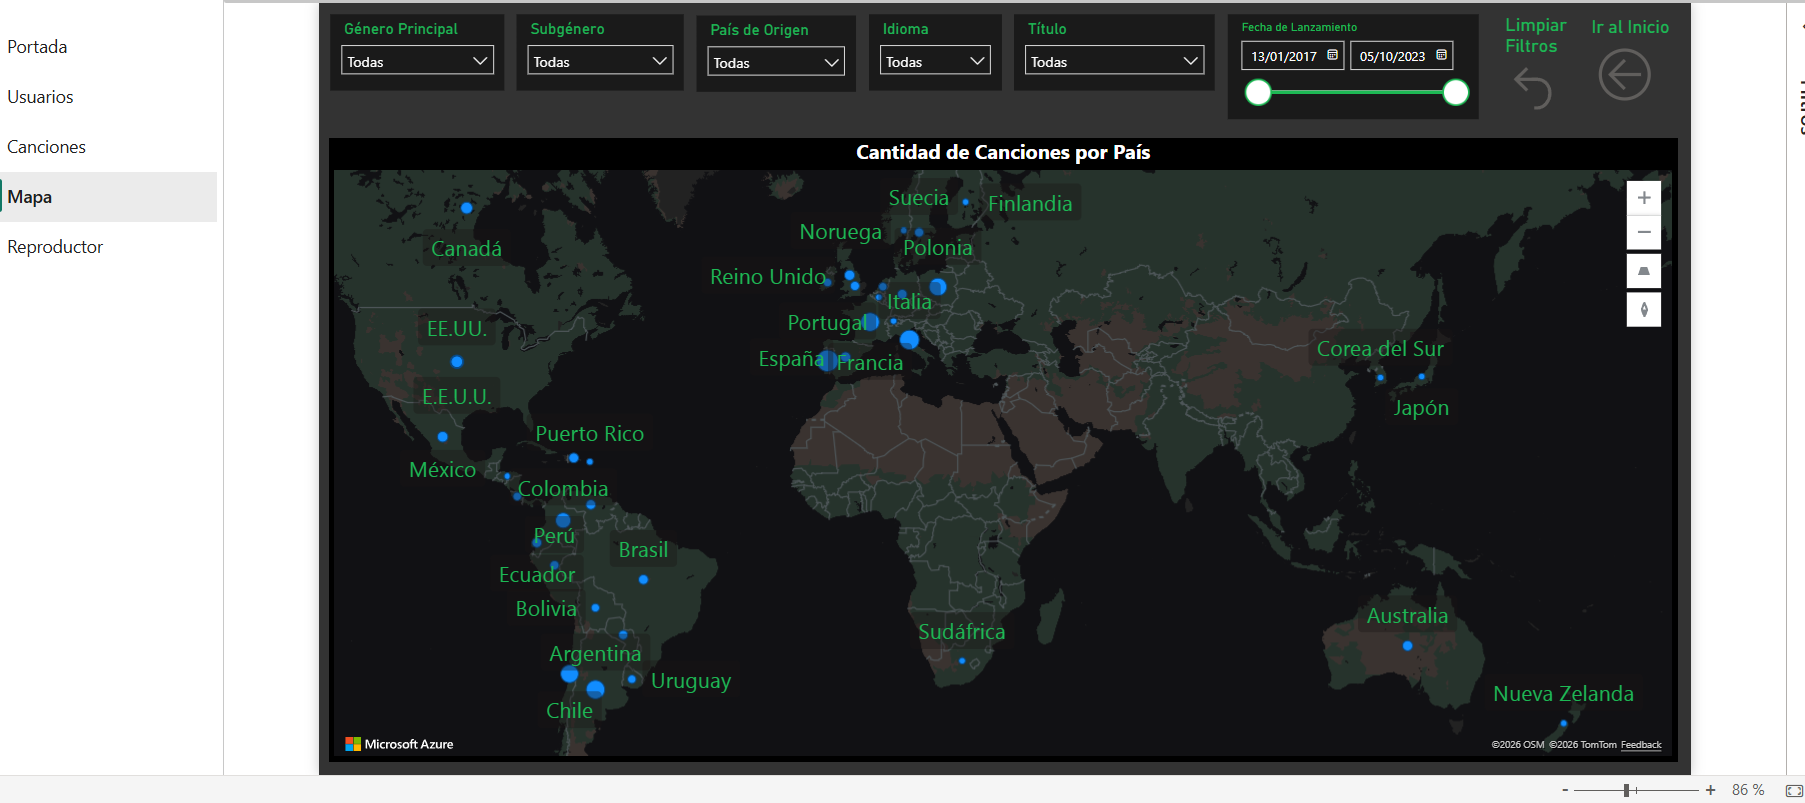

Layout of this report page (visuals, bound fields, positions):
{"tool":"powerbi","page":{"name":"Mapa","canvas":[1280,720],"ordinal":3},"visuals":[{"type":"azureMap","fields":{"Size":["Medidas BD_Spotify.Cantidad de Canciones"],"Category":["BD_Spotify.Nuevo País"]},"box":[8.8,126.2,1257.5,581.2],"z":0},{"type":"actionButton","title":"Limpiar Filtros","box":[1106.2,10,70,95],"z":1000},{"type":"actionButton","title":"Ir al Inicio","box":[1186.2,11.2,80,86.2],"z":2000},{"type":"slicer","fields":{"Values":["BD_Spotify.Género Principal"]},"box":[10,10,162.5,71.2],"z":3000},{"type":"slicer","fields":{"Values":["BD_Spotify.Subgénero"]},"box":[184.2,10,156.2,71.2],"z":4000},{"type":"slicer","fields":{"Values":["Calendario Fecha Lanzamiento.Date"]},"box":[847.5,10,233.8,97.5],"z":5000},{"type":"slicer","fields":{"Values":["BD_Spotify.Nuevo País"]},"box":[352.2,11.2,148.8,71.2],"z":6000},{"type":"slicer","fields":{"Values":["BD_Spotify.Idioma Nuevo"]},"box":[512.8,10,123.8,71.2],"z":7000},{"type":"slicer","fields":{"Values":["BD_Spotify.Título"]},"box":[648.2,10,187.5,71.2],"z":8000}]}

Visuals, with their boxes on the page's 1280x720 design canvas (x1, y1, x2, y2). These are canvas units, not pixel positions in the 1805x803 screenshot, which may show the page scaled, cropped or inside an application window:
azureMap - Medidas BD_Spotify.Cantidad de Canciones x BD_Spotify.Nuevo País: detection(9, 126, 1266, 707)
"Limpiar Filtros" actionButton: detection(1106, 10, 1176, 105)
"Ir al Inicio" actionButton: detection(1186, 11, 1266, 97)
slicer - BD_Spotify.Género Principal: detection(10, 10, 172, 81)
slicer - BD_Spotify.Subgénero: detection(184, 10, 340, 81)
slicer - Calendario Fecha Lanzamiento.Date: detection(848, 10, 1081, 108)
slicer - BD_Spotify.Nuevo País: detection(352, 11, 501, 82)
slicer - BD_Spotify.Idioma Nuevo: detection(513, 10, 637, 81)
slicer - BD_Spotify.Título: detection(648, 10, 836, 81)
